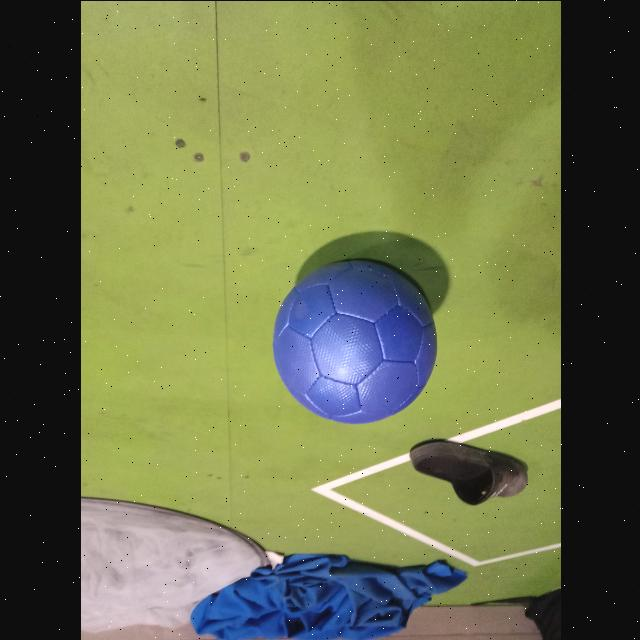B: (272, 255, 436, 422)
